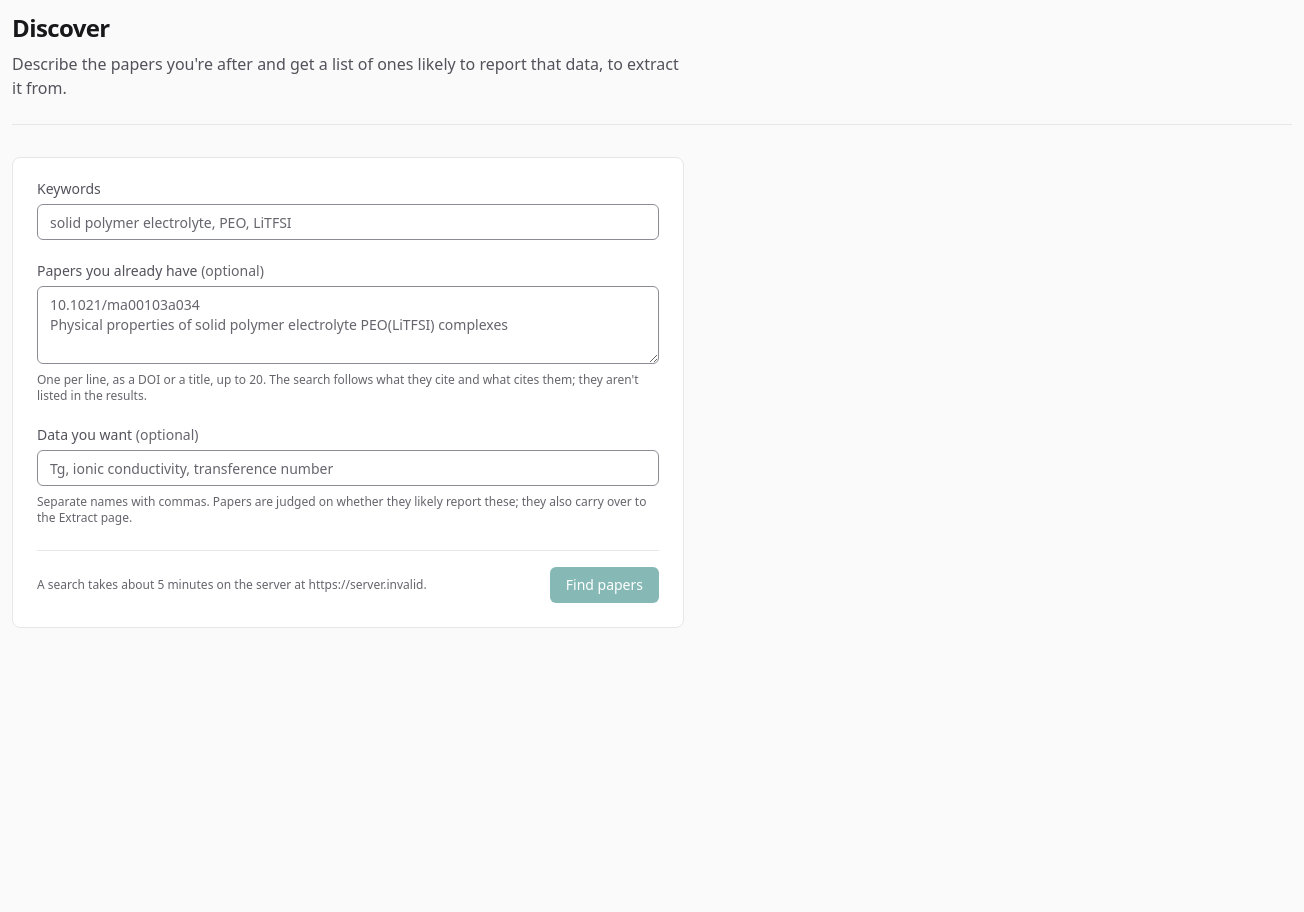
Test: Discover page › carries the features over to the Extract page
Type "Tg, conductivity" into the field labelled "Data you want (optional)".
click(348, 468); type("Tg, conductivity")  # box [37,450,659,486]
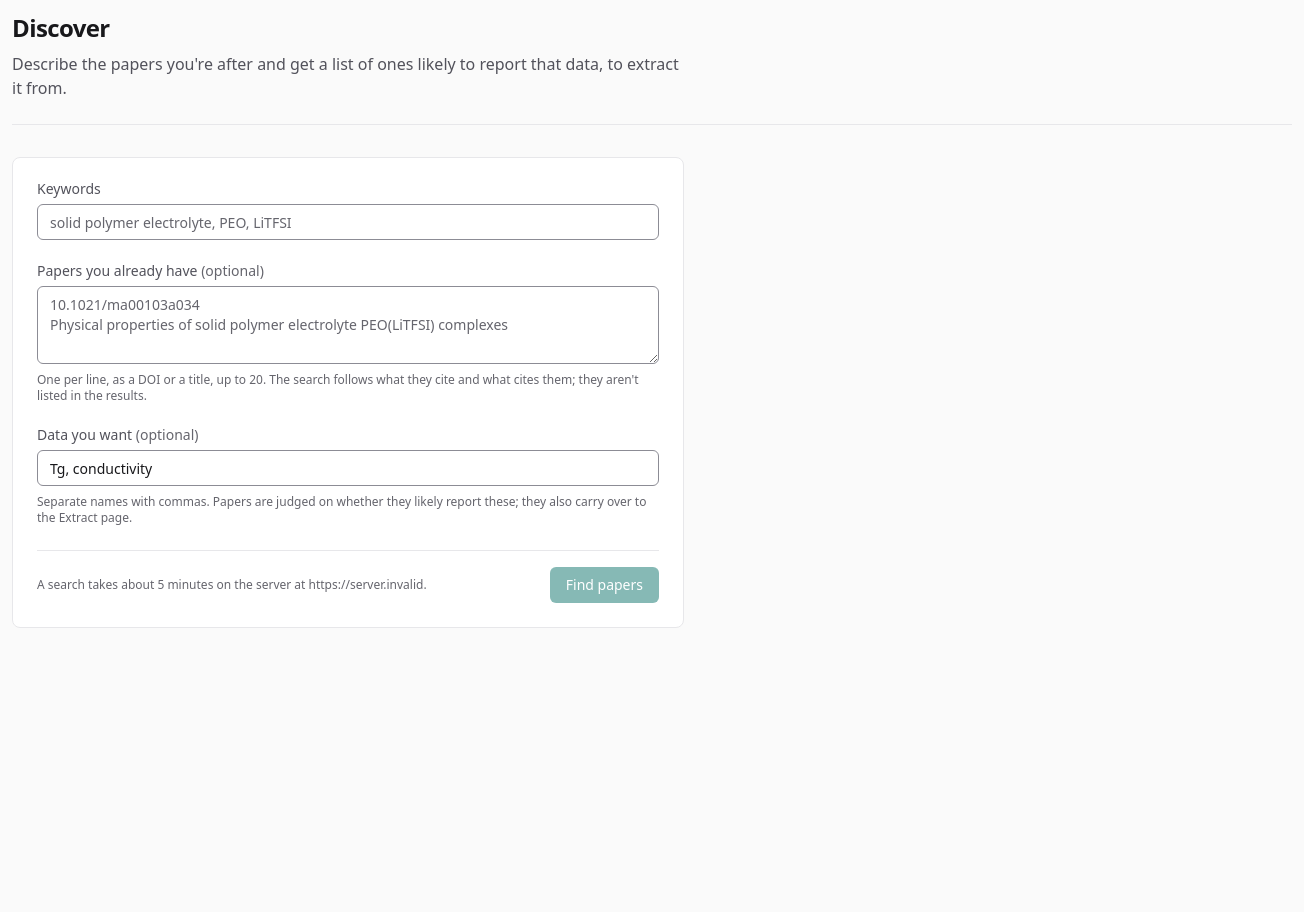
Type "PEO LiTFSI conductivity" into the field labelled "Keywords".
click(348, 222); type("PEO LiTFSI conductivity")  # box [37,204,659,240]
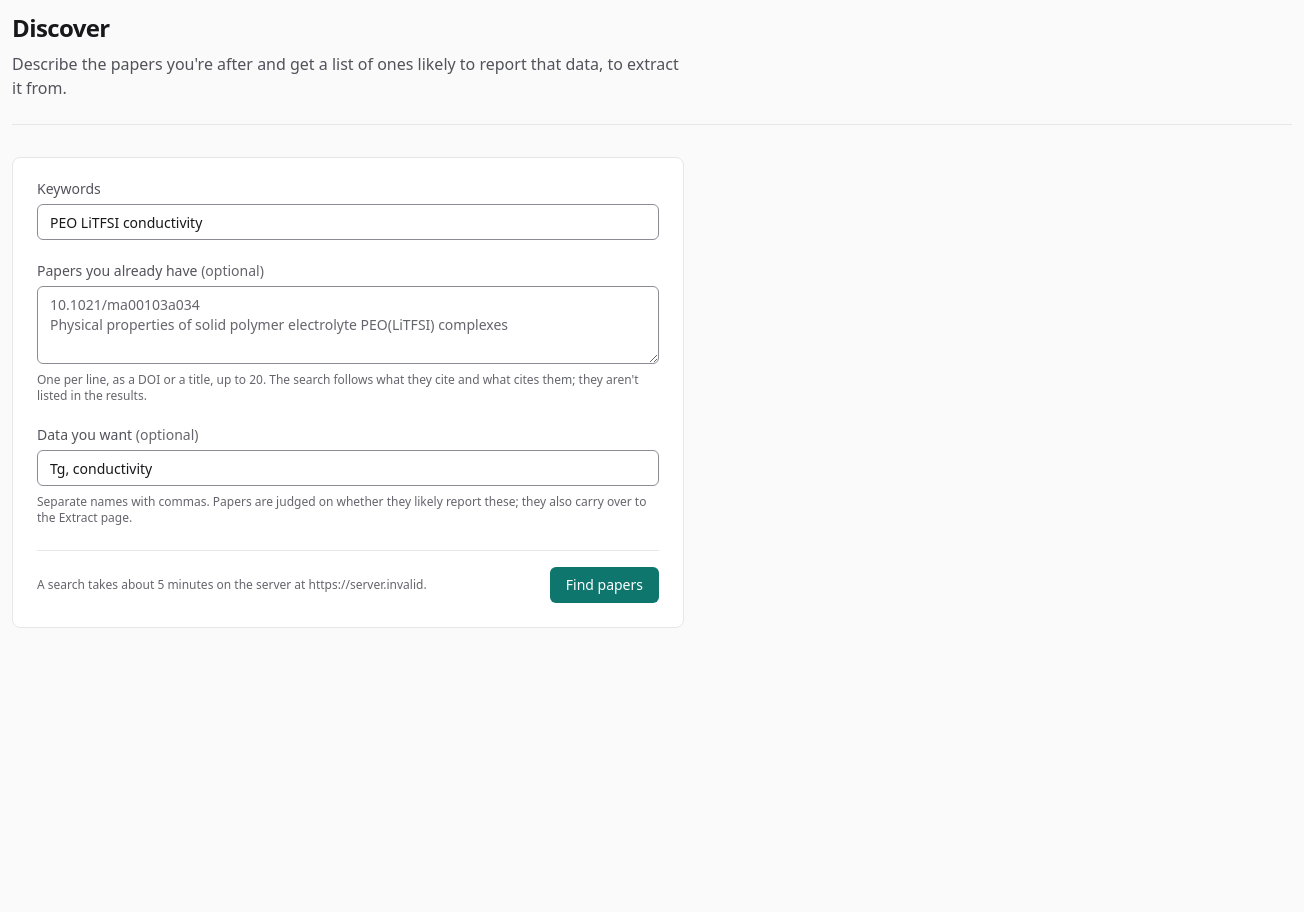
Click the button "Find papers".
click(604, 585)  # box [550,567,659,603]
Wait 3000 ms
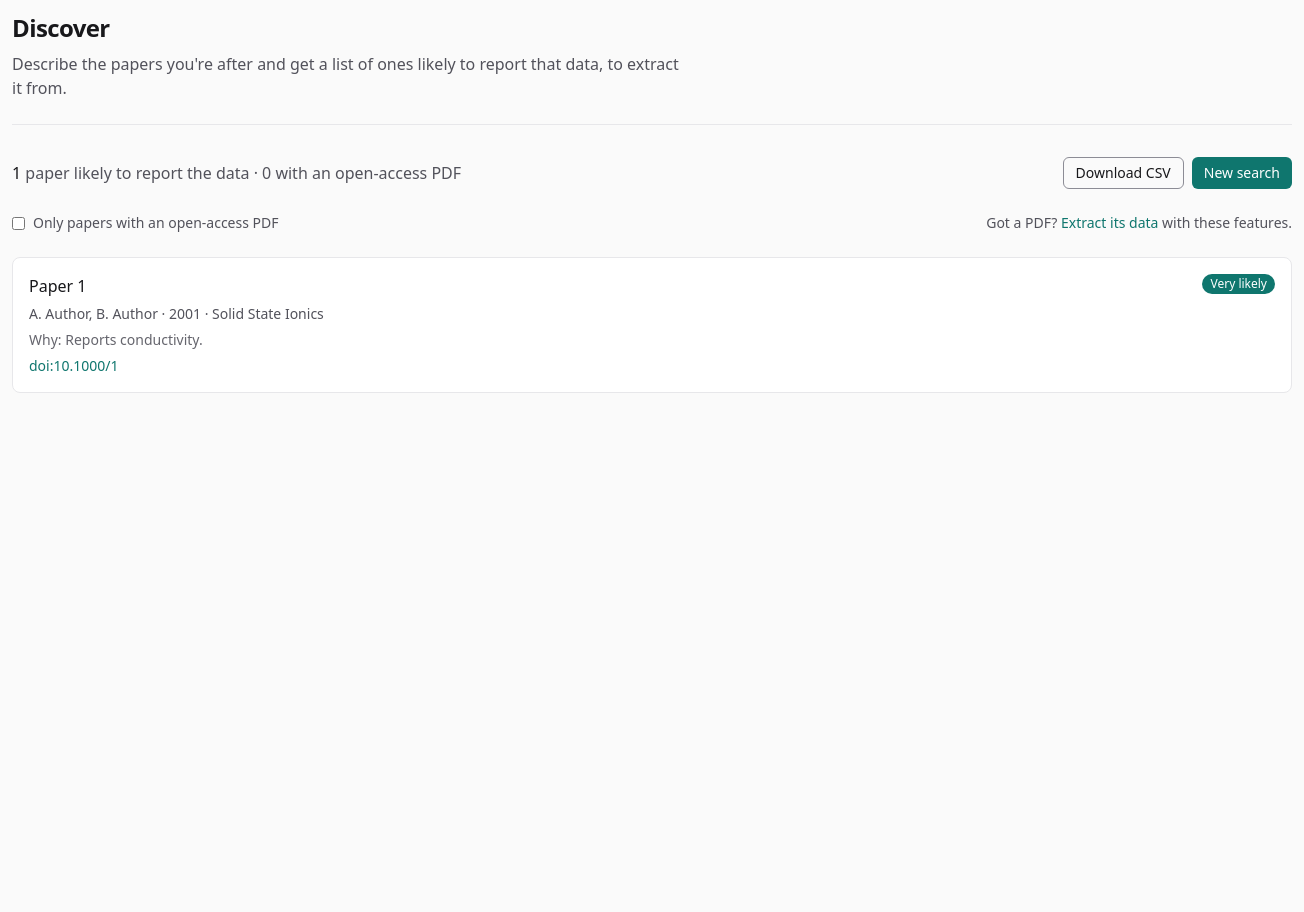
Click the link "Extract its data".
click(1110, 222)  # box [1061,213,1158,232]
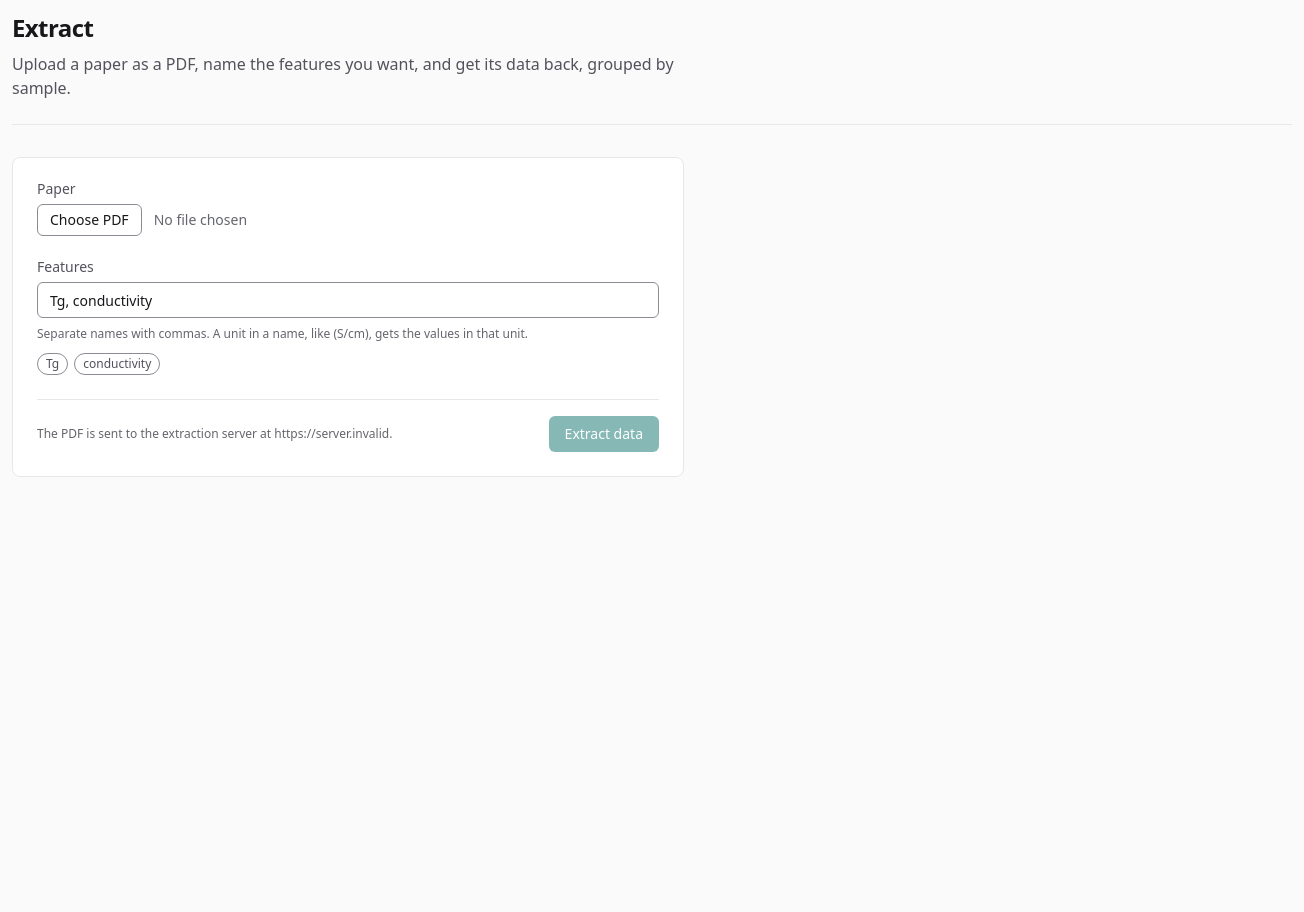
Now the field labelled "Features" holds "Tg, conductivity", box [37,282,659,318]
